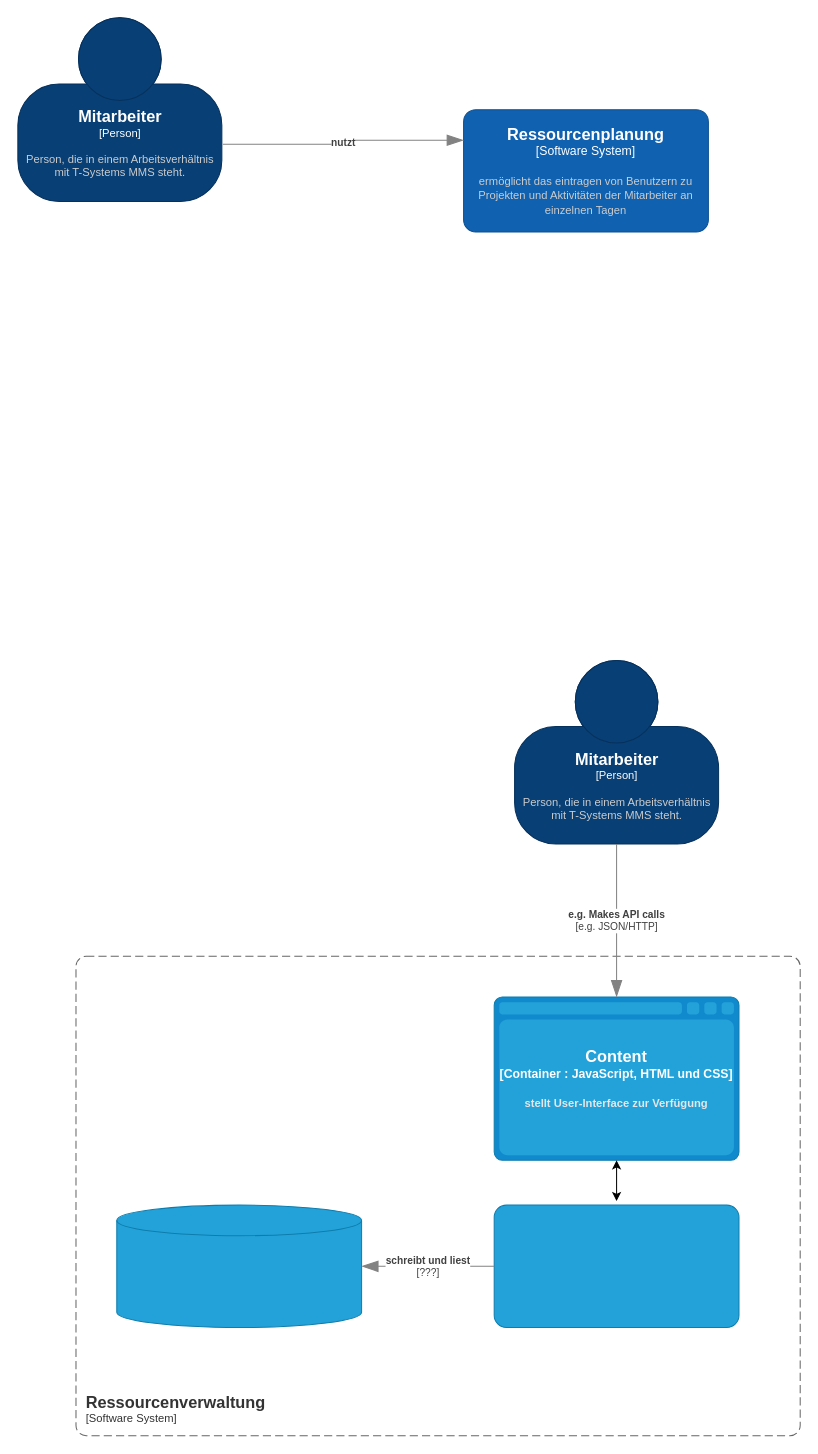
Some shapes in this 818 by 1454 pixel diagram are drawn without their labels. The shapes that lost their labels are listed below. From the top down, each one's centre as x and y in pixels, then its label:
point 239,1266: Datenbank [Datenbank: Maria DB] Speichert Datenbankobjekte
point 616,1266: Backend [Container: PHP] stellt Funktionalität zur Verfügung
